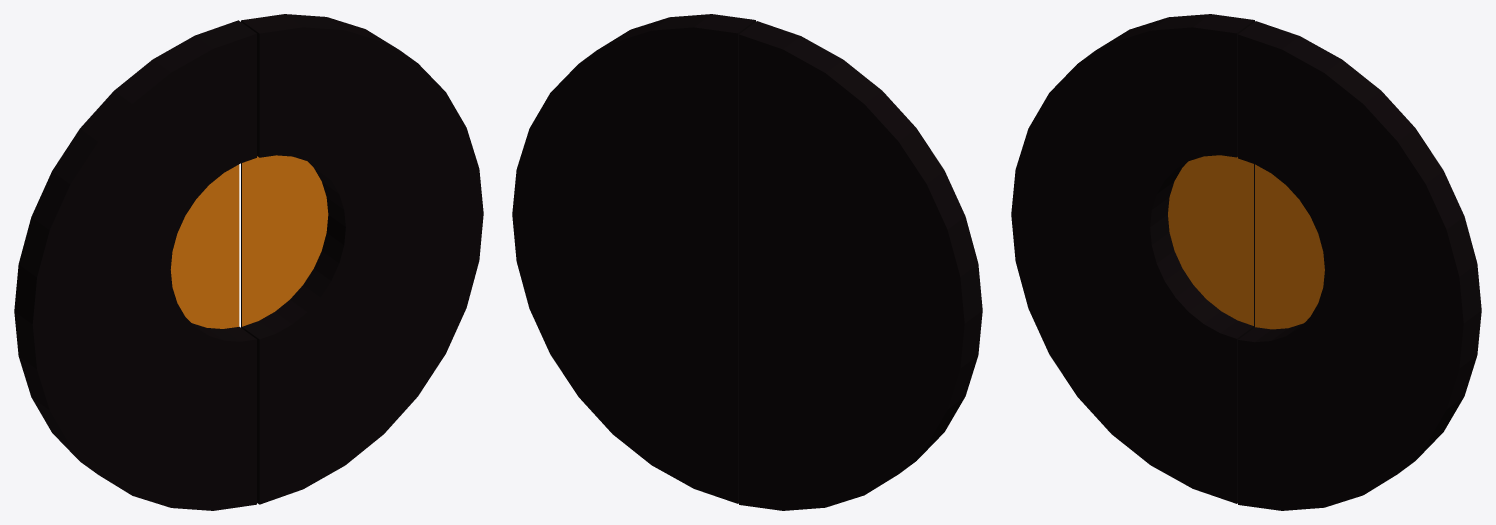
File: gate.fbx
3 views of the same model, side by side, from view 1: azimuth 30°, elevation 25°; view 2: azimuth 150°, elevation 25°; view 3: azimuth 330°, elevation 25° (orthographic).
Parts seen in each view (by area): view 1: left, right; view 2: left, right; view 3: right, left.
Part boxes in pixels (box(x1,y1,x2,y2)): left: box(14, 20, 256, 510); right: box(241, 14, 483, 504); left: box(739, 21, 982, 510); right: box(512, 14, 755, 503); right: box(1238, 21, 1481, 510); left: box(1011, 14, 1254, 503).
Bounding box in the file's own units: 181 × 180 × 13.38.
